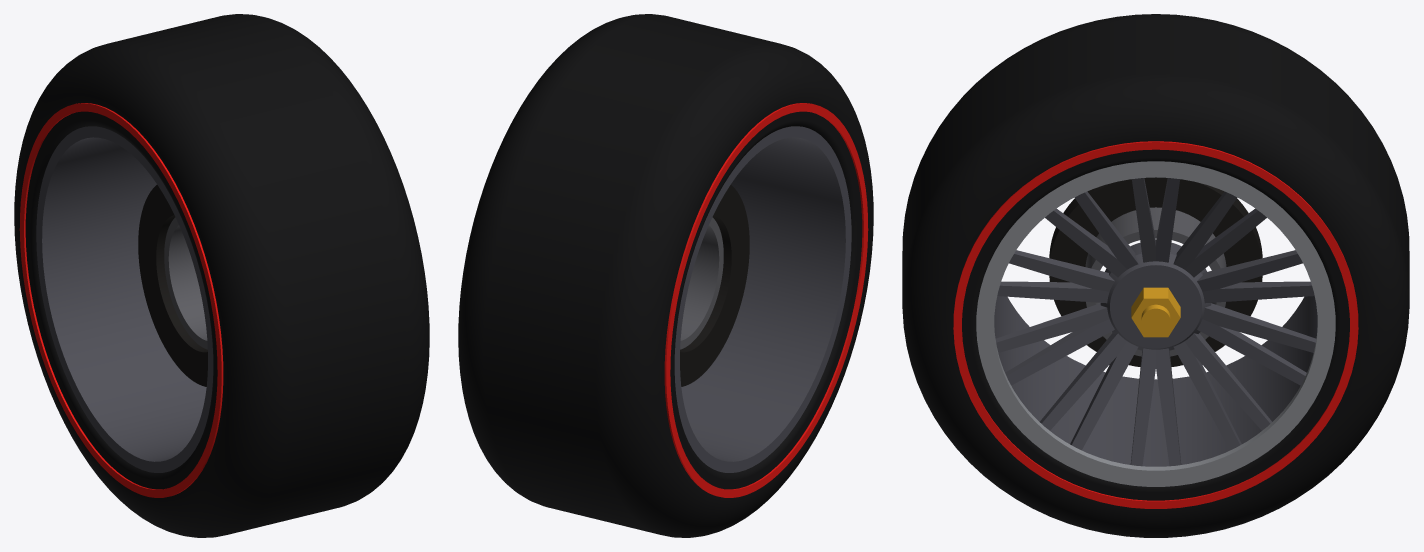
Rendered from wheel_front.glb.
The picture shows the model from 3 angles, left to right: view 1: azimuth 30°, elevation 25°; view 2: azimuth 150°, elevation 25°; view 3: azimuth 270°, elevation 25°; orthographic projection.
Visible parts, largest first — view 1: wheel_front; view 2: wheel_front; view 3: wheel_front.
Boxes of the visible parts, x1,y1,x2,y2 form: wheel_front: (14,14,429,537); wheel_front: (458,14,873,537); wheel_front: (902,14,1409,537).
Bounding box in the file's own units: 0.305 × 0.6597 × 0.6599.
